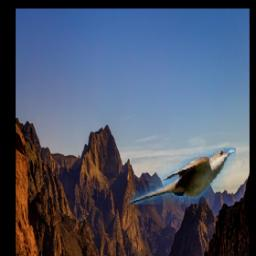Cuckoo: (130, 147, 236, 204)
